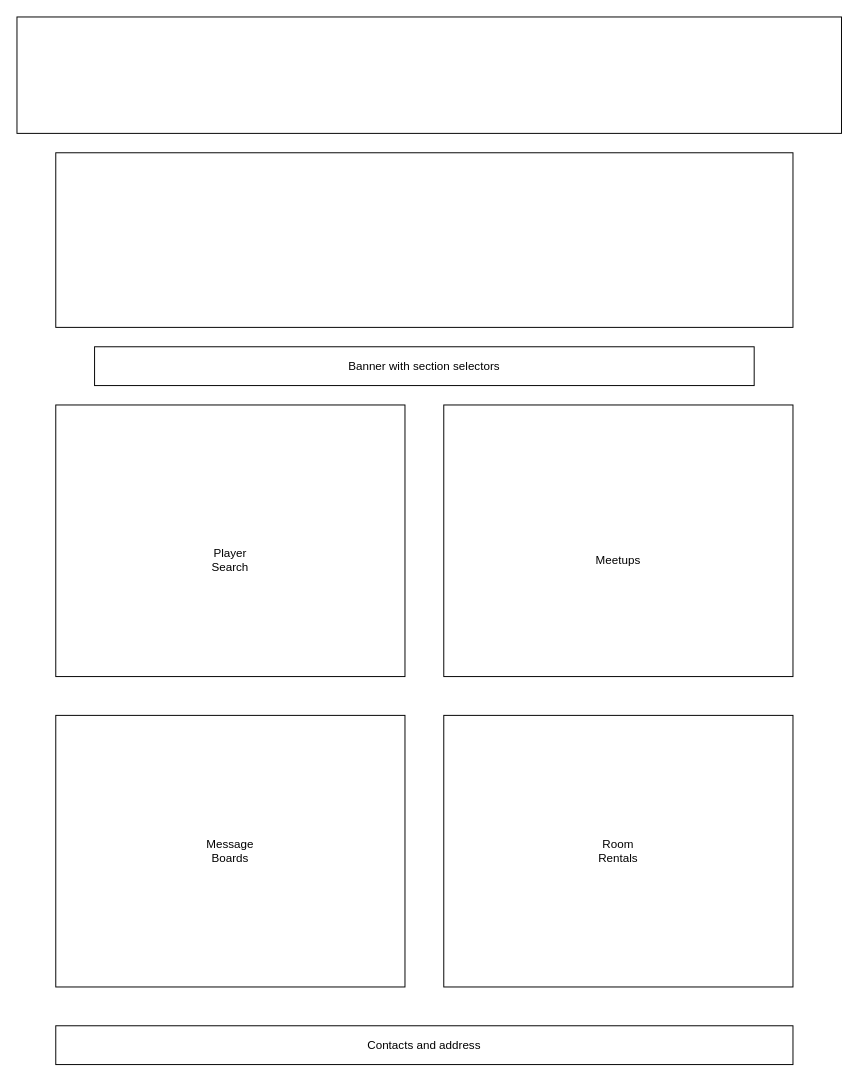
The diagram is 858 pixels wide and 1082 high, and some of its shapes have lost their labels. Here are the shapes that lost their labels. From the top down, the centre of each, then its label:
At pixel 428 74: "Logo".
At pixel 424 239: "Store Picture".
